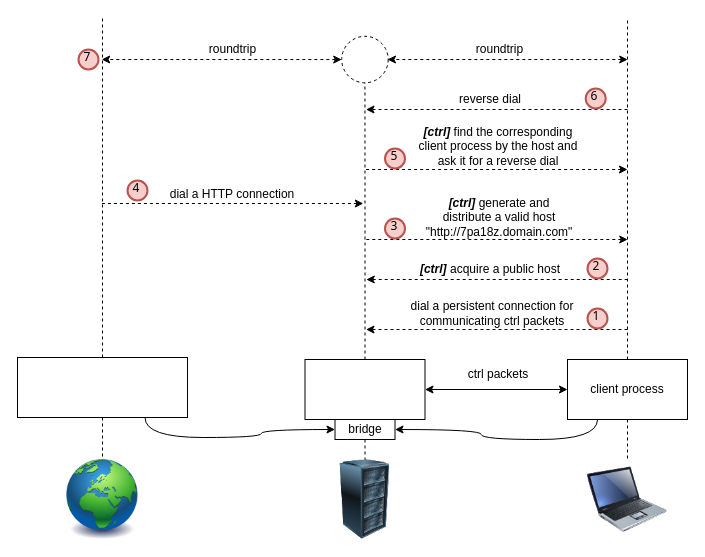
This 705x557 diagram has some shape labels left out. The shapes that lost their labels are listed below. From the top down, each one's box as (x1, y1, x2, y2) in pixels, then its label:
(341, 35, 388, 83): io.copy
(16, 356, 188, 418): http://7pa18z.domain.com
(304, 358, 425, 420): server process
